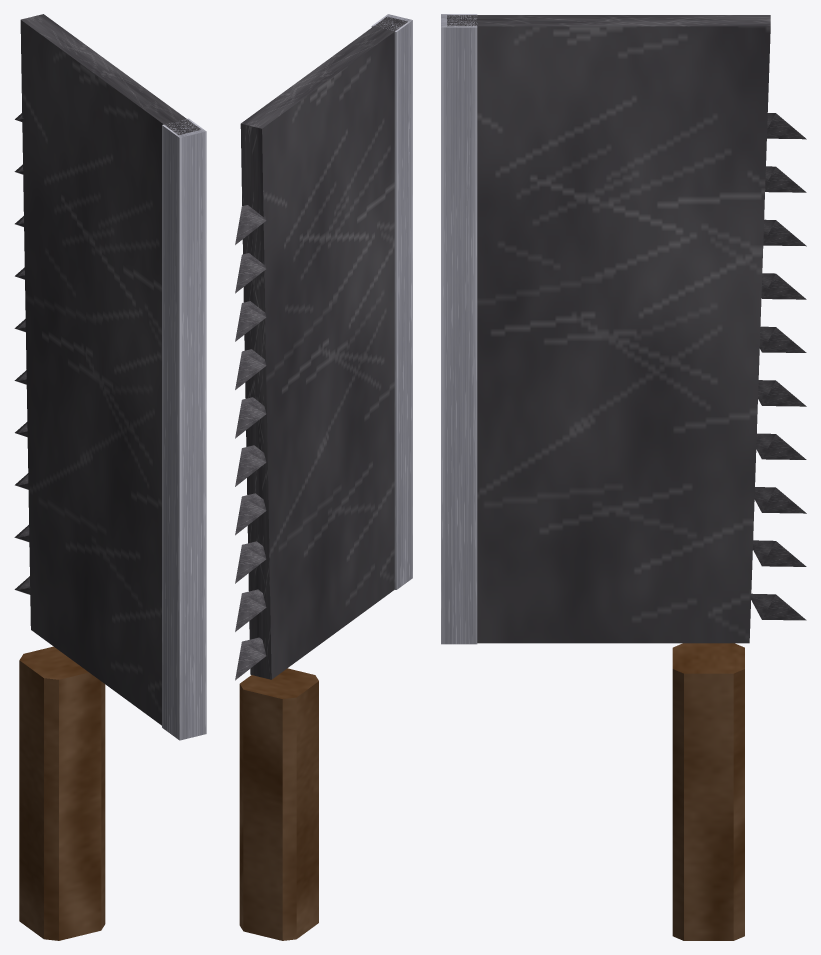
File: SerratedCleaver.fbx
3 views of the same model, side by side, from view 1: azimuth 30°, elevation 25°; view 2: azimuth 150°, elevation 25°; view 3: azimuth 270°, elevation 25° (orthographic). The views are drawn at different scales.
Parts seen in each view (by area): view 1: Blade, Handle; view 2: Blade, Handle; view 3: Blade, Handle.
Boxes of the visible parts, x1,y1,x2,y2 form: Blade: [14, 14, 206, 740]; Handle: [19, 646, 105, 940]; Blade: [235, 14, 412, 680]; Handle: [239, 668, 318, 940]; Blade: [441, 14, 806, 644]; Handle: [672, 643, 744, 940].
Size of the model in its own units: 16 by 220 by 80.63.
1 material, 1 textured.
